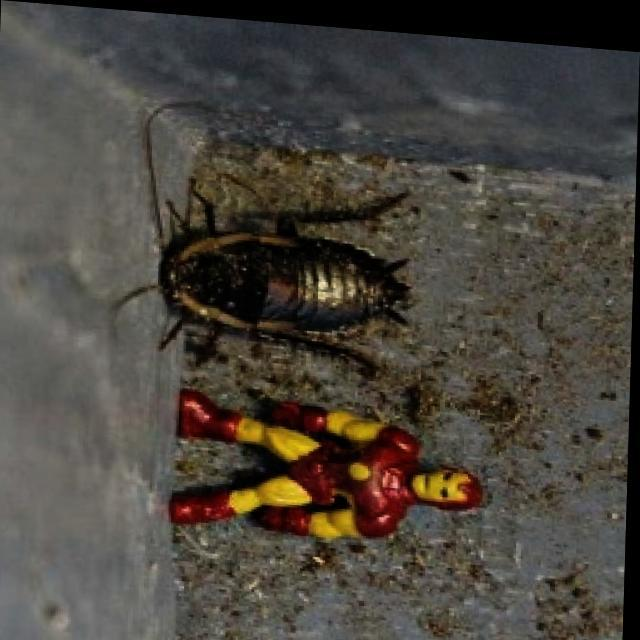cockroach: (114, 174, 405, 365)
